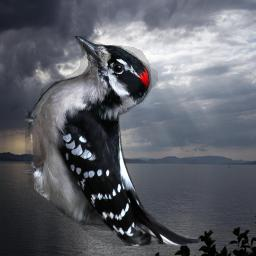Woodpecker: (25, 36, 201, 246)
